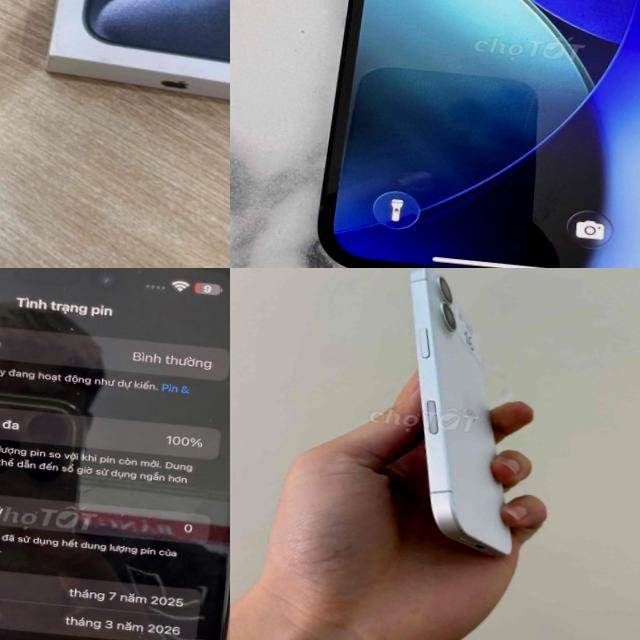gen_12_13: (311, 0, 640, 268)
gen_15: (0, 268, 230, 640), (0, 0, 175, 158)
gen_16: (369, 268, 565, 578)
